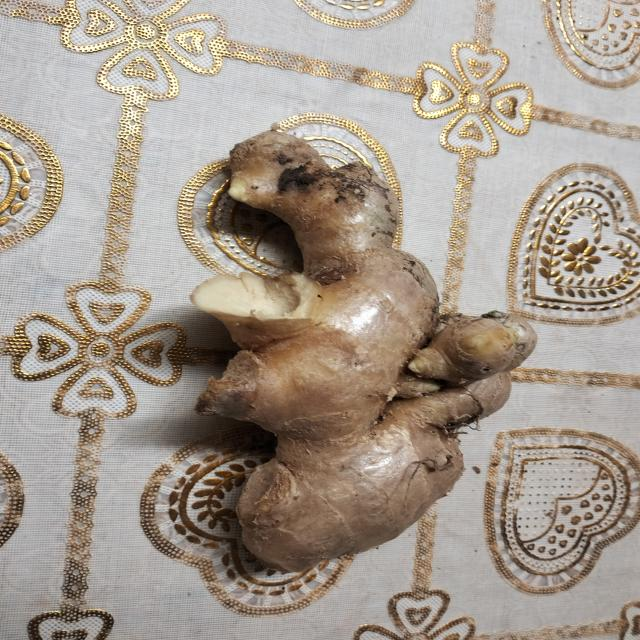ginger: (169, 124, 524, 570)
